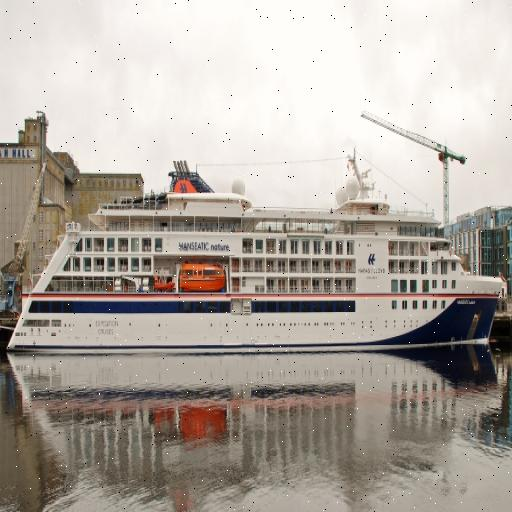cruises: (5, 154, 504, 355)
